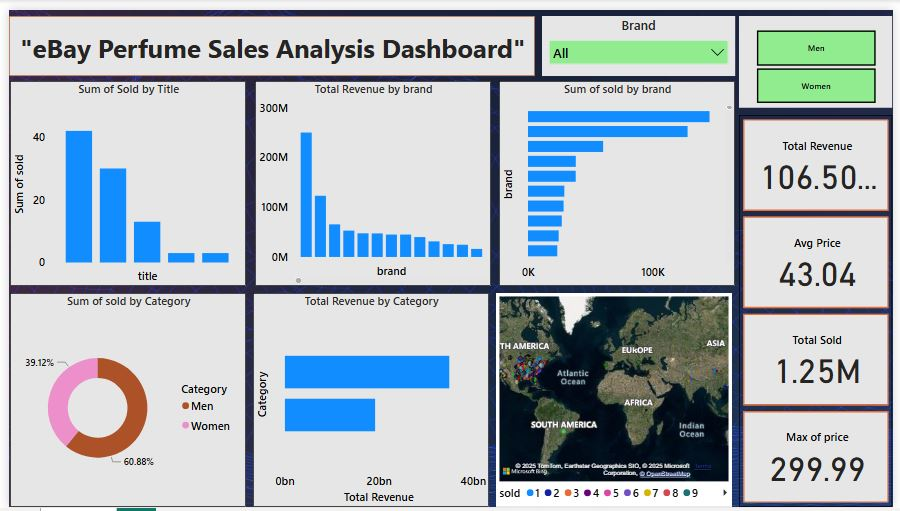

Layout of this report page (visuals, bound fields, positions):
{"tool":"powerbi","page":{"name":"Page 1","canvas":[1280,720],"ordinal":0},"visuals":[{"type":"cardVisual","fields":{"Data":["Combined Perfume.Total Revenue","Combined Perfume.Total Sold","Combined Perfume.Total Sold1","Max(Combined Perfume.price)"]},"box":[1058,152.2,221.7,568.1],"z":0},{"type":"clusteredColumnChart","title":"Sum of Sold by Title","fields":{"Category":["Combined Perfume.title"],"Y":["Sum(Combined Perfume.sold)"]},"box":[1.4,102.9,342,297.1],"z":1000},{"type":"columnChart","fields":{"Category":["Combined Perfume.brand"],"Y":["Combined Perfume.Total Revenue"]},"box":[356.5,102.9,342,297.1],"z":2000},{"type":"donutChart","fields":{"Category":["Combined Perfume.Category"],"Y":["Sum(Combined Perfume.sold)"]},"box":[1.4,410.1,342,310.1],"z":3000},{"type":"barChart","fields":{"Category":["Combined Perfume.Category"],"Y":["Combined Perfume.Total Revenue"]},"box":[353.6,410.1,342,310.1],"z":4000},{"type":"barChart","fields":{"Category":["Combined Perfume.brand"],"Y":["Sum(Combined Perfume.sold)"]},"box":[710.1,102.9,342,297.1],"z":5000},{"type":"slicer","fields":{"Values":["Combined Perfume.Category"]},"box":[1058,8.7,221.7,133.3],"z":6000},{"type":"map","fields":{"Category":["Combined Perfume.itemLocation"],"Series":["Combined Perfume.sold"]},"box":[705.8,410.1,342,310.1],"z":7000},{"type":"textbox","box":[0,8.7,762.3,87],"z":8000},{"type":"slicer","title":"Brand","fields":{"Values":["Combined Perfume.brand"]},"box":[772.5,8.7,279.7,87],"z":8001}]}

Visuals, with their boxes in screenshot pixels (x1, y1, x2, y2), scaled from the page's 1280x720 canvas onto the 900x511 screenshot:
cardVisual - Combined Perfume.Total Revenue x Combined Perfume.Total Sold: l=744, t=108, r=899, b=510
"Sum of Sold by Title" clusteredColumnChart: l=1, t=73, r=241, b=284
columnChart - Combined Perfume.brand x Combined Perfume.Total Revenue: l=251, t=73, r=491, b=284
donutChart - Combined Perfume.Category x Sum(Combined Perfume.sold): l=1, t=291, r=241, b=510
barChart - Combined Perfume.Category x Combined Perfume.Total Revenue: l=249, t=291, r=489, b=510
barChart - Combined Perfume.brand x Sum(Combined Perfume.sold): l=499, t=73, r=740, b=284
slicer - Combined Perfume.Category: l=744, t=6, r=899, b=101
map - Combined Perfume.itemLocation x Combined Perfume.sold: l=496, t=291, r=737, b=510
textbox: l=0, t=6, r=536, b=68
"Brand" slicer: l=543, t=6, r=740, b=68
